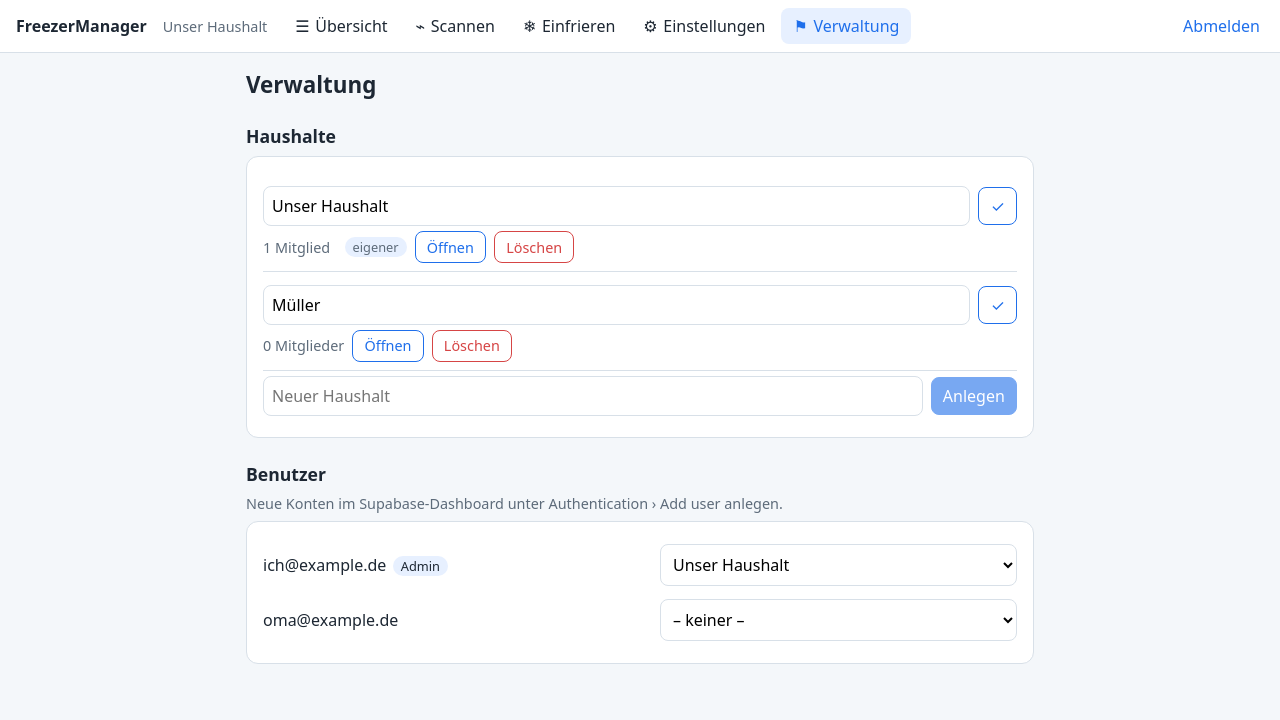
Test: opens a household and shows the banner with an empty overview
What coordinates should you click on to do the following:
click the button with aria-label "Müller öffnen"
I would click on:
 (388, 346)
Its box is [352,330,424,362].
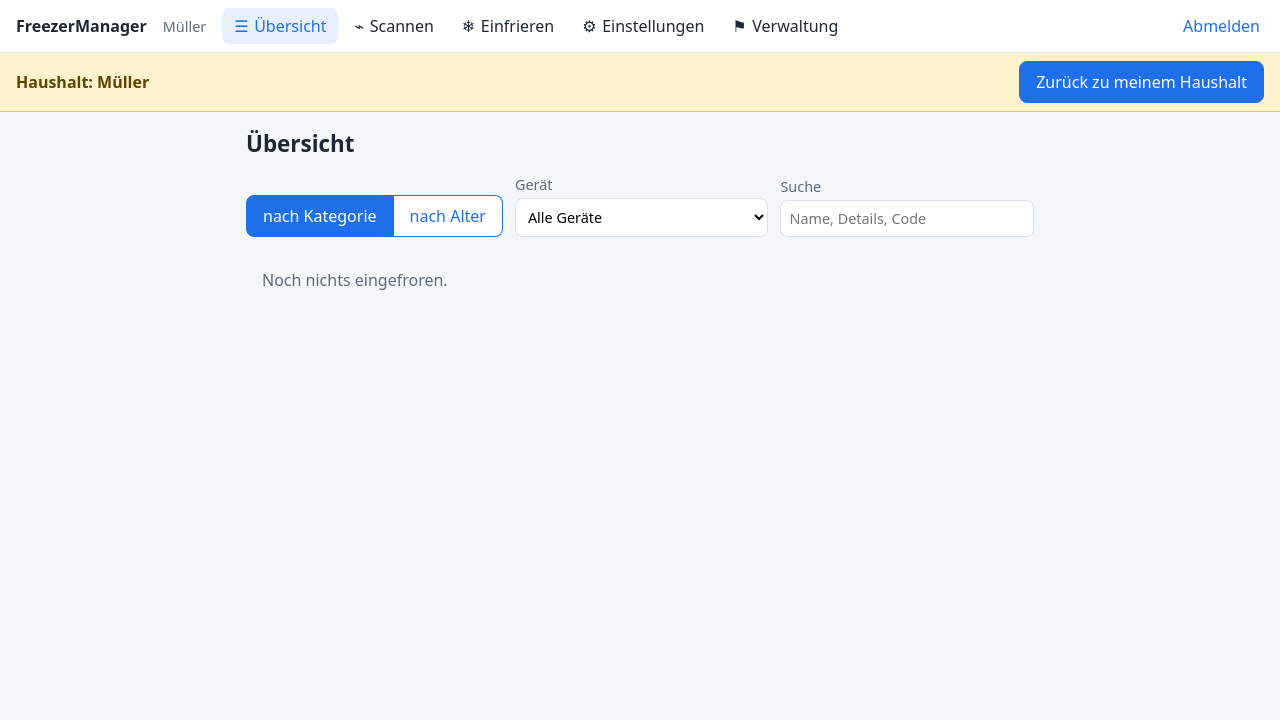
Now the text "Haushalt: Müller" is shown, box [16,71,149,93]
